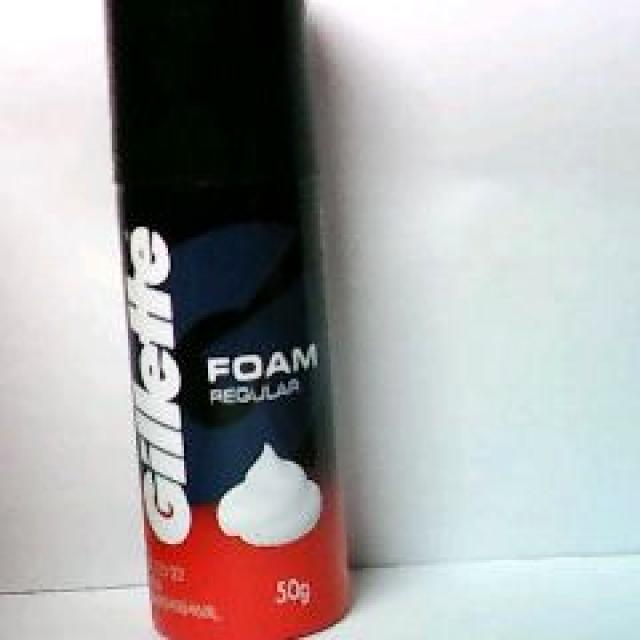gillette-foam: (104, 0, 355, 637)
